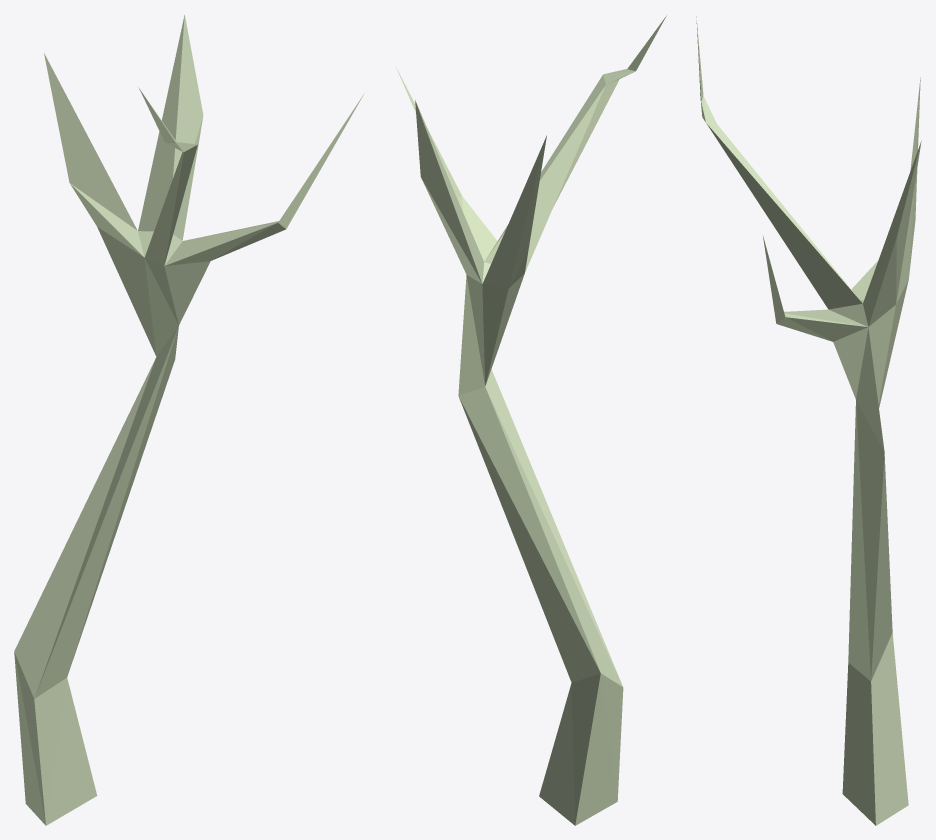
File: Glade_Tree4.fbx
The picture shows the model from 3 angles, left to right: view 1: azimuth 30°, elevation 25°; view 2: azimuth 150°, elevation 25°; view 3: azimuth 270°, elevation 25°; orthographic projection. The views are drawn at different scales.
Parts seen in each view (by area): view 1: Icosphere.011; view 2: Icosphere.011; view 3: Icosphere.011.
Boxes of the visible parts, x1,y1,x2,y2 form: Icosphere.011: (14, 14, 364, 825); Icosphere.011: (395, 15, 666, 825); Icosphere.011: (696, 16, 921, 825).
Bounding box in the file's own units: 139 × 364 × 93.53.
